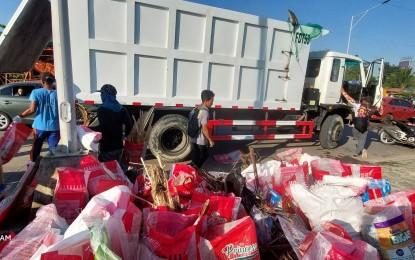road: (251, 123, 415, 192)
trash: (3, 156, 415, 258)
